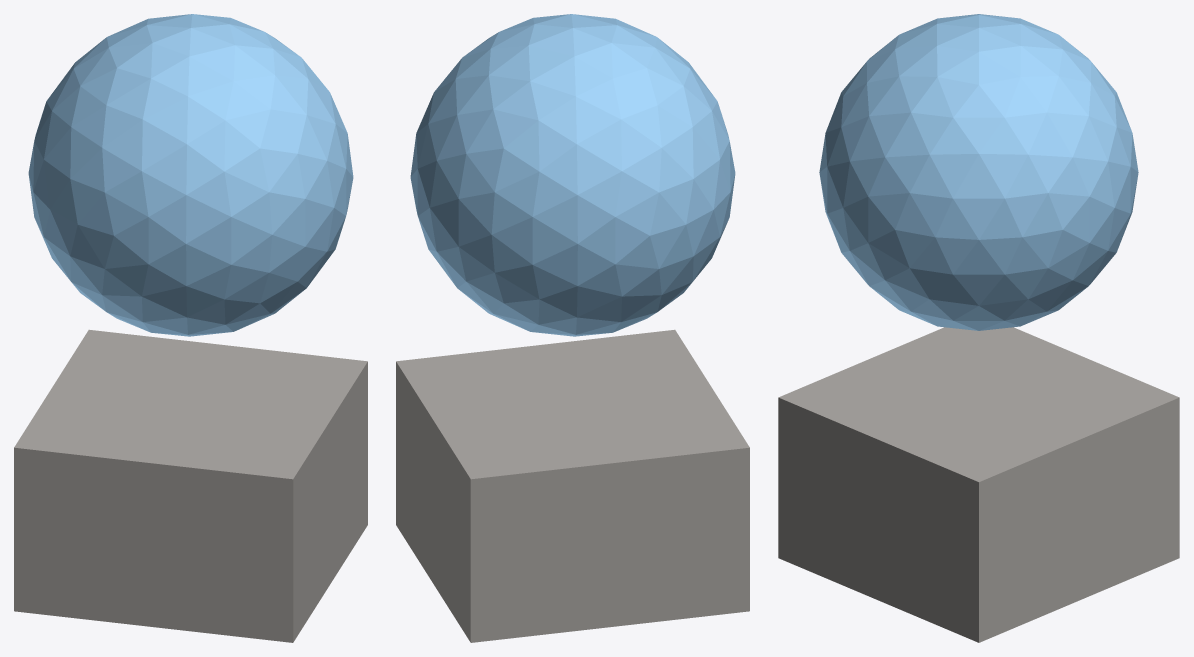
File: soul_orb_icosphere.glb
3 renders of one model, left to right at view 1: azimuth 30°, elevation 25°; view 2: azimuth 150°, elevation 25°; view 3: azimuth 270°, elevation 25°, orthographic.
Parts seen in each view (by area): view 1: pedestal, orb; view 2: pedestal, orb; view 3: pedestal, orb.
Boxes of the visible parts, x1,y1,x2,y2 form: pedestal: (14, 329, 367, 642); orb: (28, 14, 353, 336); pedestal: (396, 329, 749, 642); orb: (410, 14, 735, 336); pedestal: (778, 327, 1179, 642); orb: (819, 14, 1138, 330).
Size of the model in its own units: 2.26 by 3.3 by 2.26.
